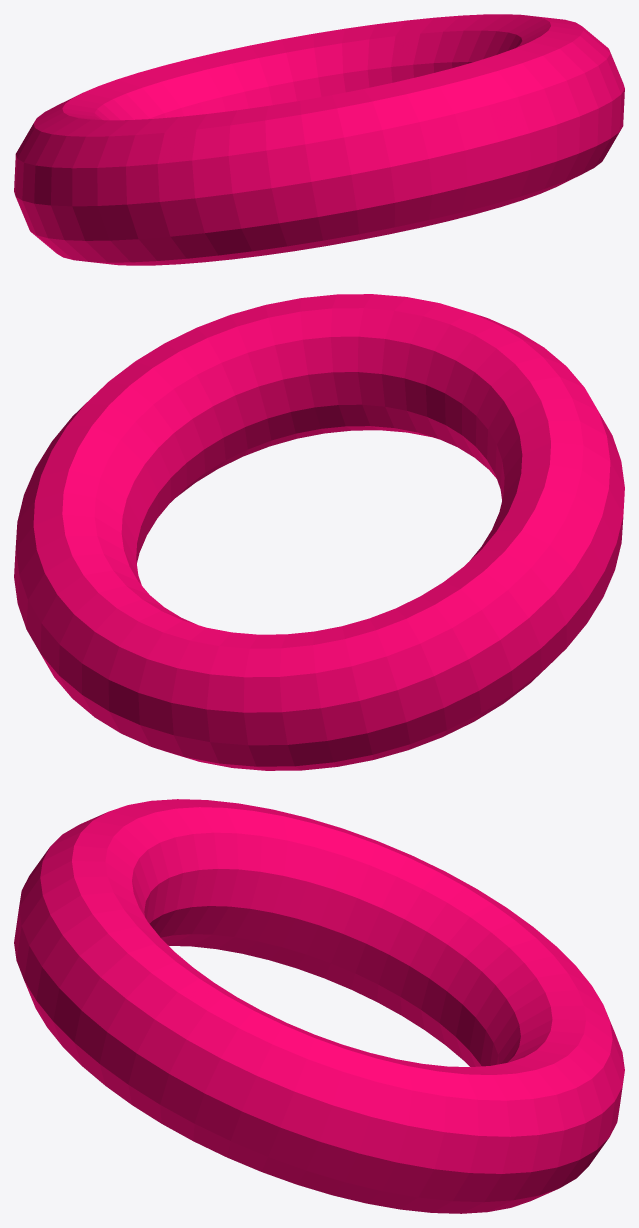
File: enemyBullet.obj
3 renders of one model, top to bottom at view 1: azimuth 30°, elevation 25°; view 2: azimuth 150°, elevation 25°; view 3: azimuth 270°, elevation 25°, orthographic. The views are drawn at different scales.
Visible parts, largest first — view 1: トーラス; view 2: トーラス; view 3: トーラス.
Boxes of the visible parts, x1,y1,x2,y2 form: トーラス: (14, 14, 624, 265); トーラス: (14, 294, 624, 770); トーラス: (14, 799, 624, 1213).
Size of the model in its own units: 1.25 by 0.6289 by 1.19.
Materials: 1 (1 with a texture image).
